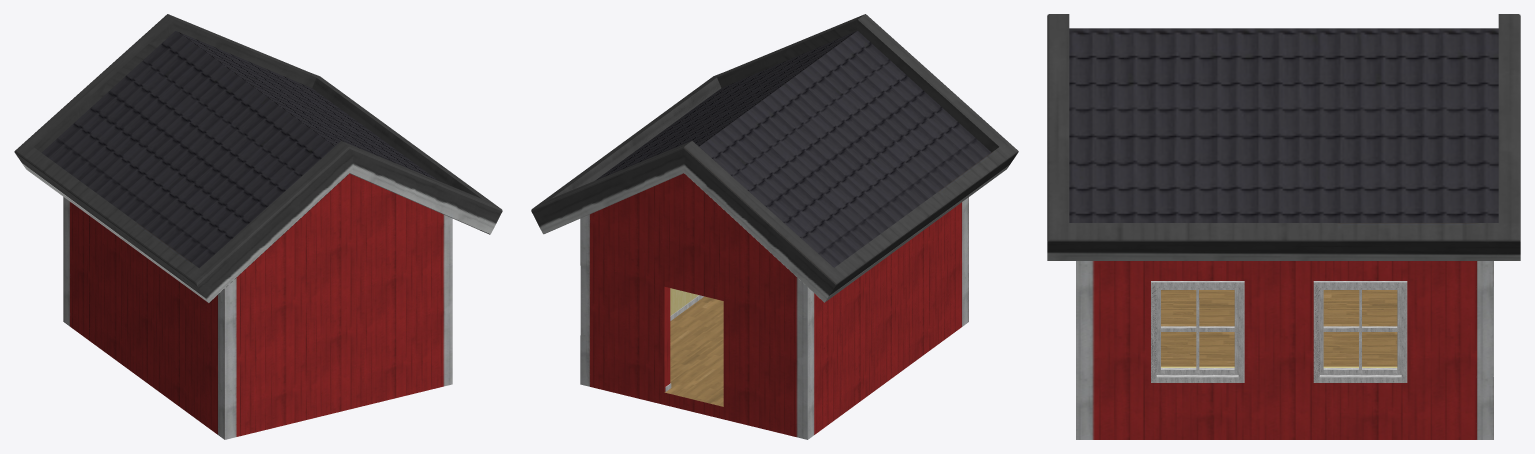
The model's file is building.fbx.
3 renders of one model, left to right at view 1: azimuth 30°, elevation 25°; view 2: azimuth 150°, elevation 25°; view 3: azimuth 270°, elevation 25°, orthographic. The views are drawn at different scales.
Parts seen in each view (by area): view 1: Roof_internal; view 2: Roof_internal; view 3: Roof_internal.
Boxes of the visible parts, bbox=[...] form: Roof_internal: bbox=[14, 14, 502, 439]; Roof_internal: bbox=[531, 14, 1018, 439]; Roof_internal: bbox=[1047, 14, 1520, 439].
Bounding box in the file's own units: 5114 × 4366 × 5293.
